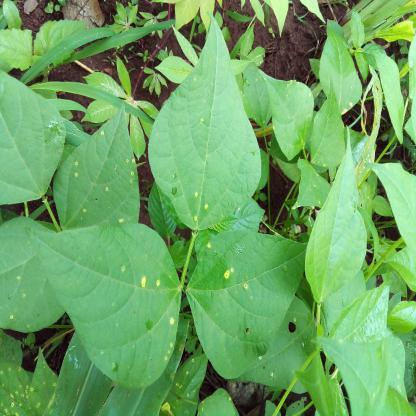Beans_Rust: (146, 12, 266, 230), (24, 220, 179, 386), (188, 233, 312, 378), (50, 109, 140, 226), (2, 217, 69, 334), (160, 354, 207, 416), (1, 363, 53, 416)
